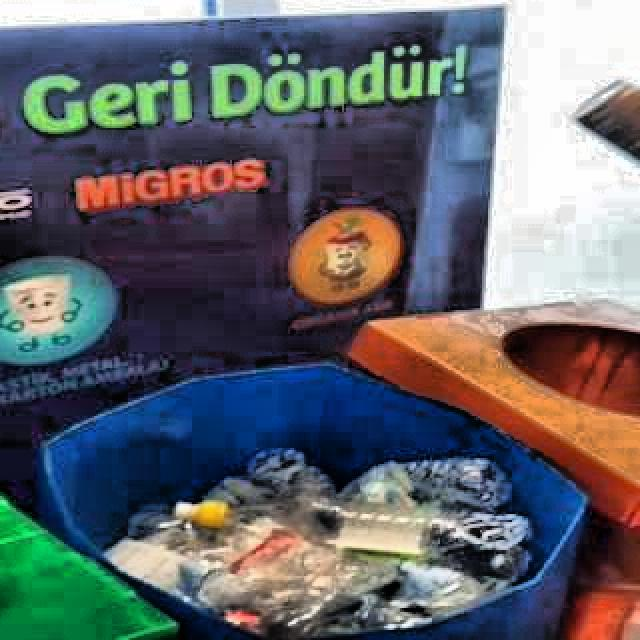metal: (579, 82, 640, 158)
